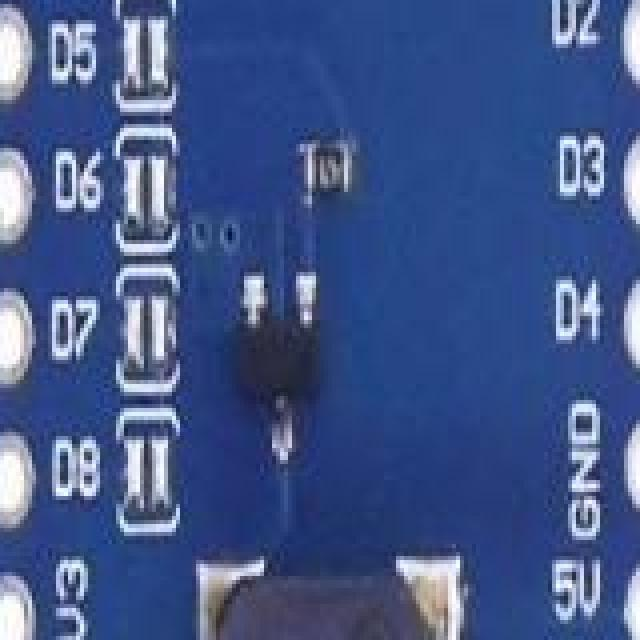buzzer: (200, 568, 468, 640)
resistor: (300, 140, 366, 228)
transistor: (244, 260, 340, 474)
